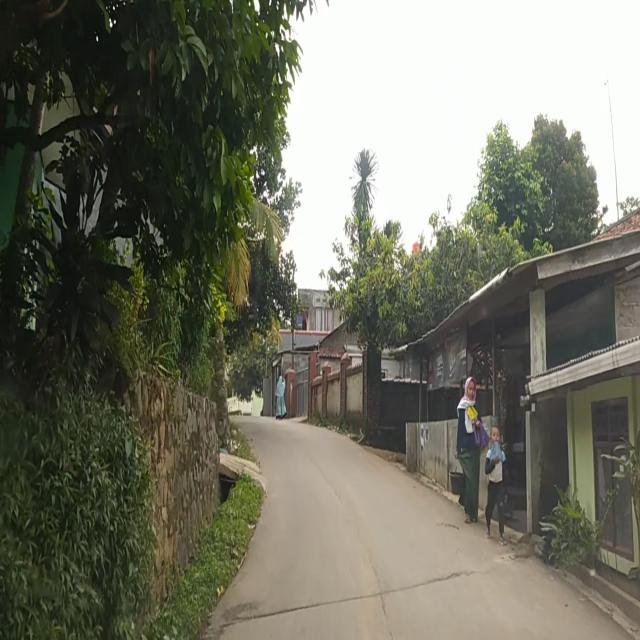Sewer Cover: (220, 565, 489, 624)
